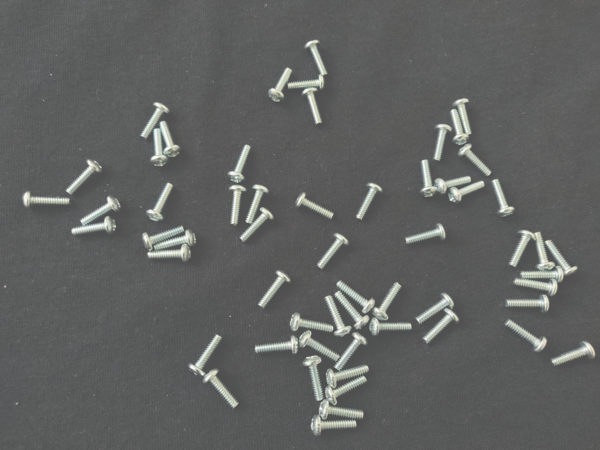shortscrew: (504, 318, 548, 354), (203, 368, 240, 410), (188, 334, 223, 377), (65, 158, 103, 195), (257, 270, 292, 310), (423, 309, 461, 345), (334, 331, 369, 370), (326, 375, 368, 407), (316, 233, 351, 271), (336, 280, 375, 314), (336, 291, 370, 330), (372, 282, 403, 323), (299, 331, 340, 362), (80, 196, 122, 226), (551, 341, 597, 368), (139, 101, 170, 141), (240, 207, 274, 243), (416, 293, 455, 324), (547, 240, 578, 279), (325, 296, 352, 338), (508, 230, 537, 269), (295, 192, 335, 220), (142, 225, 184, 251), (459, 144, 492, 177), (356, 182, 383, 222), (147, 183, 173, 223), (327, 365, 370, 389), (290, 312, 334, 335), (302, 356, 324, 402), (304, 40, 330, 78), (311, 416, 357, 437), (22, 191, 71, 210), (405, 224, 447, 246), (320, 400, 364, 421), (71, 217, 117, 237), (228, 144, 251, 184), (247, 185, 270, 225), (154, 230, 196, 251), (267, 67, 292, 102), (505, 295, 551, 314), (449, 181, 487, 204), (370, 317, 413, 337), (493, 179, 515, 218), (254, 336, 299, 355), (160, 120, 182, 158), (148, 244, 192, 263), (303, 89, 325, 127), (533, 232, 555, 270), (519, 266, 565, 284), (514, 278, 558, 296), (150, 128, 169, 168), (434, 123, 453, 162), (453, 98, 473, 135), (229, 185, 247, 226), (434, 177, 472, 196), (451, 109, 470, 147), (420, 160, 438, 199), (287, 75, 325, 92)
